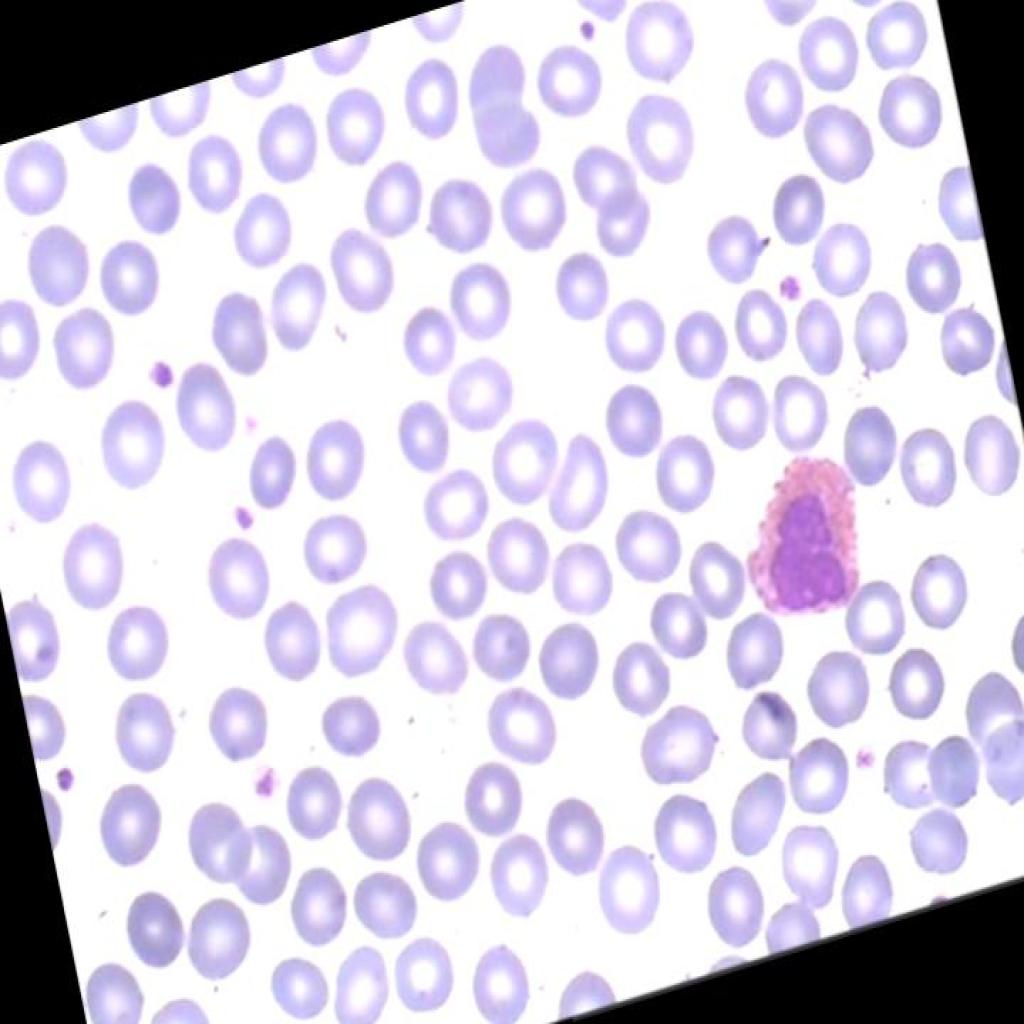Eosinofil: (715, 422, 882, 654)
Platelet: (40, 743, 85, 818), (222, 491, 269, 551), (769, 259, 818, 313), (26, 633, 72, 679), (243, 758, 279, 814), (566, 2, 604, 55), (141, 346, 176, 396), (843, 738, 876, 791)
